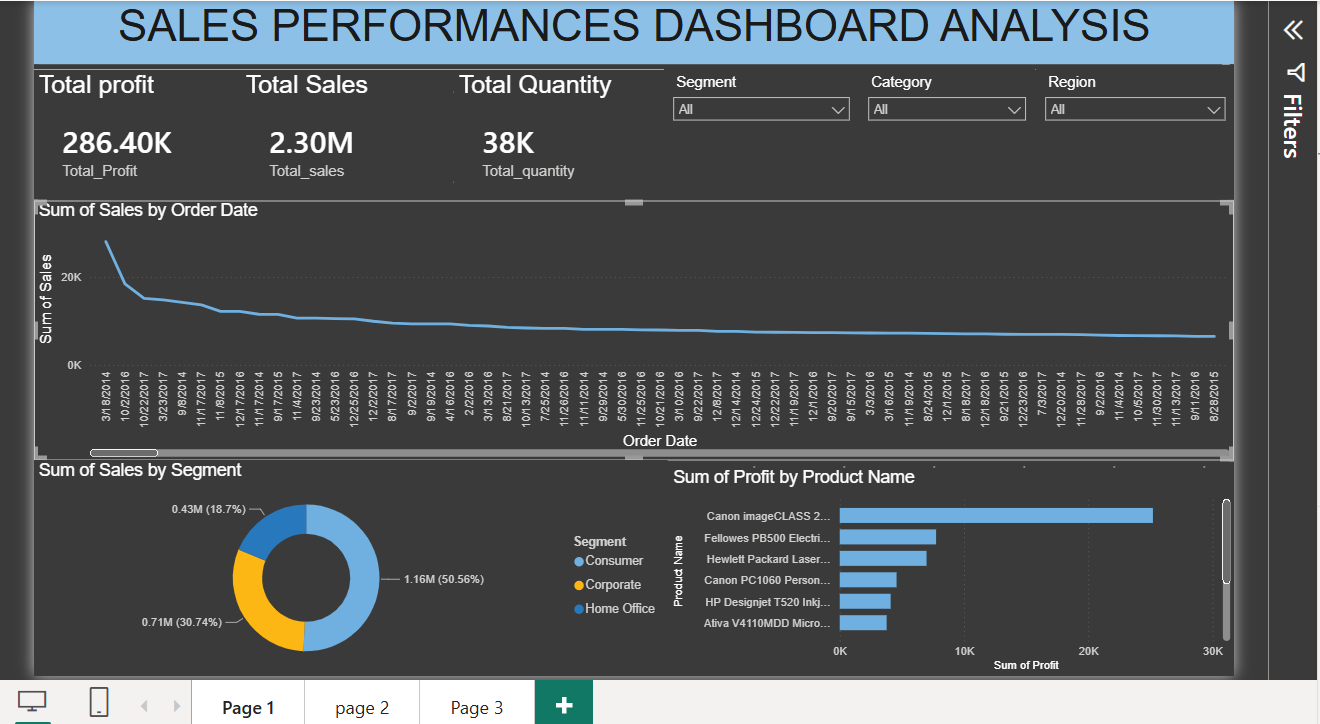

The page's visual inventory and layout, read from the dashboard file:
{"tool":"powerbi","page":{"name":"Page 1","canvas":[1280,720],"ordinal":0},"visuals":[{"type":"cardVisual","title":"Total profit","fields":{"Data":["measure table.Total_Profit"]},"box":[0,73,220.8,140.2],"z":0},{"type":"cardVisual","title":"Total Sales","fields":{"Data":["measure table.Total_sales"]},"box":[220.8,73,226.6,140.2],"z":1000},{"type":"cardVisual","title":"Total Quantity","fields":{"Data":["measure table.total_quantity"]},"box":[447.4,73,228.5,140.2],"z":2000},{"type":"lineChart","fields":{"Category":["sales_dashboard.Order Date"],"Y":["Sum(sales_dashboard.Sales)"]},"box":[0,212,1280,278],"z":5000},{"type":"barChart","fields":{"Category":["sales_dashboard.Product Name"],"Y":["Sum(sales_dashboard.Profit)"]},"box":[676,498,604,222],"z":8000},{"type":"donutChart","fields":{"Category":["sales_dashboard.Segment"],"Y":["Sum(sales_dashboard.Sales)"]},"box":[0,490,676,230],"z":9000},{"type":"textbox","title":"SALES   PERFORMANCES DASHBOARD  ANALYSIS","box":[0,0,1280.6,73],"z":10000},{"type":"slicer","fields":{"Values":["sales_dashboard.Region"]},"box":[1068,72,212,140],"z":10001},{"type":"slicer","fields":{"Values":["sales_dashboard.Category"]},"box":[880,72,188,140],"z":10002},{"type":"slicer","fields":{"Values":["sales_dashboard.Segment"]},"box":[672,72,208,140],"z":10003}]}

Visuals, with their boxes on the page's 1280x720 design canvas (x1, y1, x2, y2). These are canvas units, not pixel positions in the 1320x724 screenshot, which may show the page scaled, cropped or inside an application window:
"Total profit" cardVisual: 0 73 221 213
"Total Sales" cardVisual: 221 73 447 213
"Total Quantity" cardVisual: 447 73 676 213
lineChart - sales_dashboard.Order Date x Sum(sales_dashboard.Sales): 0 212 1280 490
barChart - sales_dashboard.Product Name x Sum(sales_dashboard.Profit): 676 498 1280 720
donutChart - sales_dashboard.Segment x Sum(sales_dashboard.Sales): 0 490 676 720
"SALES   PERFORMANCES DASHBOARD  ANALYSIS" textbox: 0 0 1281 73
slicer - sales_dashboard.Region: 1068 72 1280 212
slicer - sales_dashboard.Category: 880 72 1068 212
slicer - sales_dashboard.Segment: 672 72 880 212
